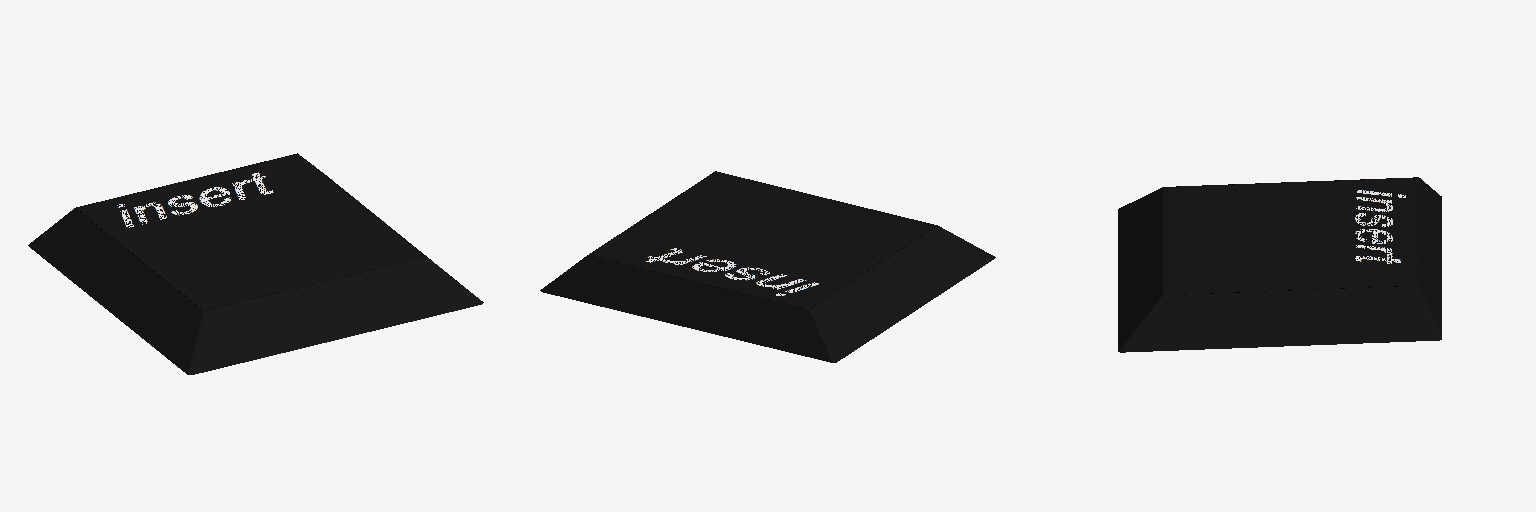
3 views of the same model, side by side, from view 1: azimuth 30°, elevation 25°; view 2: azimuth 150°, elevation 25°; view 3: azimuth 270°, elevation 25° (orthographic).
Visible parts, largest first — view 1: Group83/mesh77/mesh77-geometry#mesh77-geometry; view 2: Group83/mesh77/mesh77-geometry#mesh77-geometry; view 3: Group83/mesh77/mesh77-geometry#mesh77-geometry.
Boxes of the visible parts, x1,y1,x2,y2 form: Group83/mesh77/mesh77-geometry#mesh77-geometry: [28, 153, 483, 374]; Group83/mesh77/mesh77-geometry#mesh77-geometry: [540, 171, 995, 362]; Group83/mesh77/mesh77-geometry#mesh77-geometry: [1118, 177, 1441, 352].
Bounding box in the file's own units: 0.0754 × 0.0119 × 0.0715.
2 materials, 1 textured.